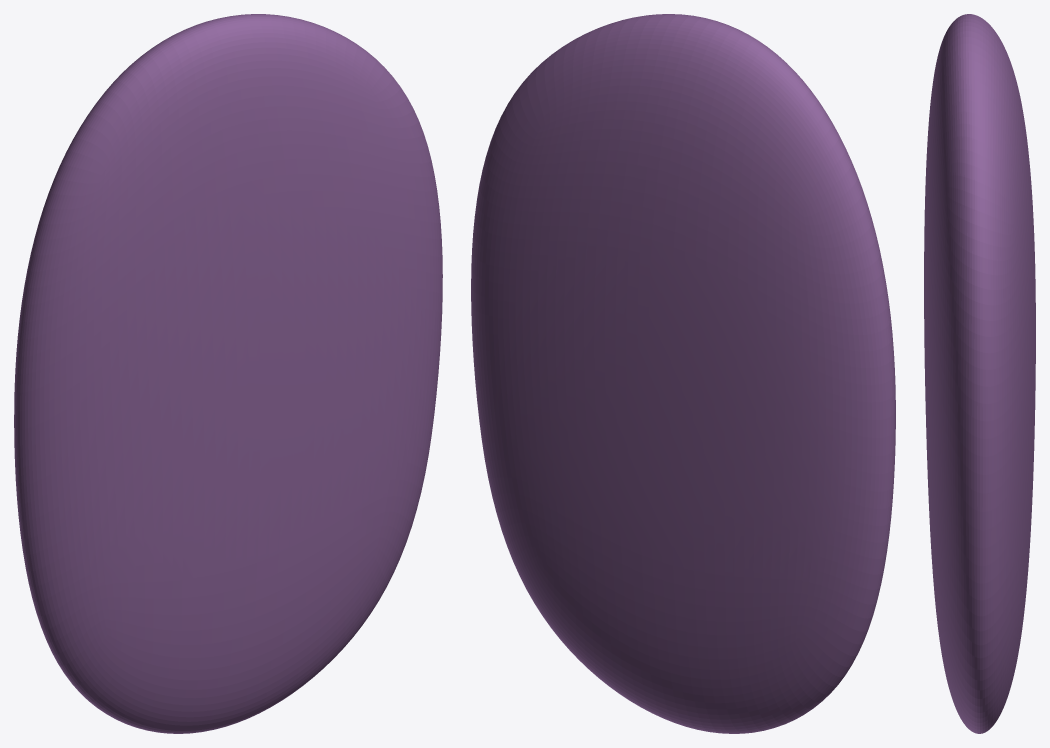
File: stone_4.fbx
3 renders of one model, left to right at view 1: azimuth 30°, elevation 25°; view 2: azimuth 150°, elevation 25°; view 3: azimuth 270°, elevation 25°, orthographic. The views are drawn at different scales.
Parts seen in each view (by area): view 1: Cube.008; view 2: Cube.008; view 3: Cube.008.
Boxes of the visible parts, box(x1,y1,x2,y2) form: Cube.008: box(14, 14, 442, 733); Cube.008: box(471, 14, 895, 733); Cube.008: box(924, 14, 1035, 733).
Bounding box in the file's own units: 271 × 434 × 64.34.
